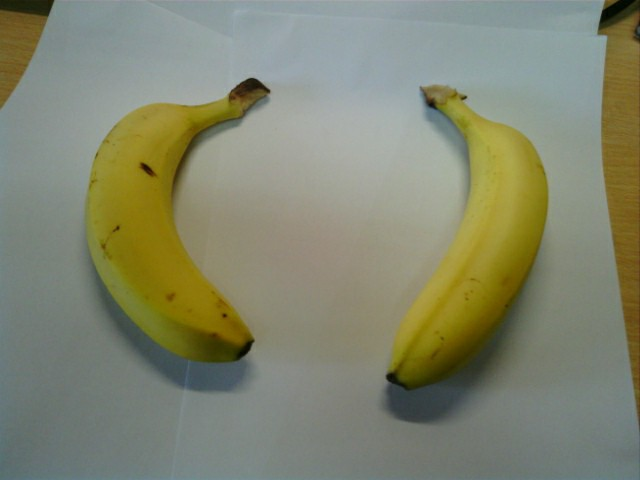fresh_banana: (388, 86, 552, 387)
normal_banana: (80, 77, 260, 361)
